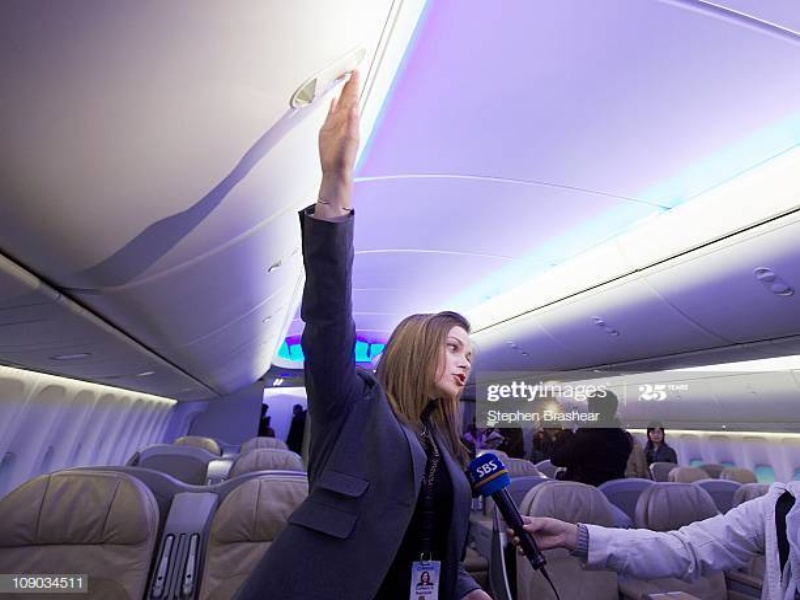close_bin: (1, 4, 396, 283), (79, 164, 353, 365), (652, 215, 797, 373), (156, 291, 293, 400), (557, 284, 726, 352), (474, 318, 589, 395)
